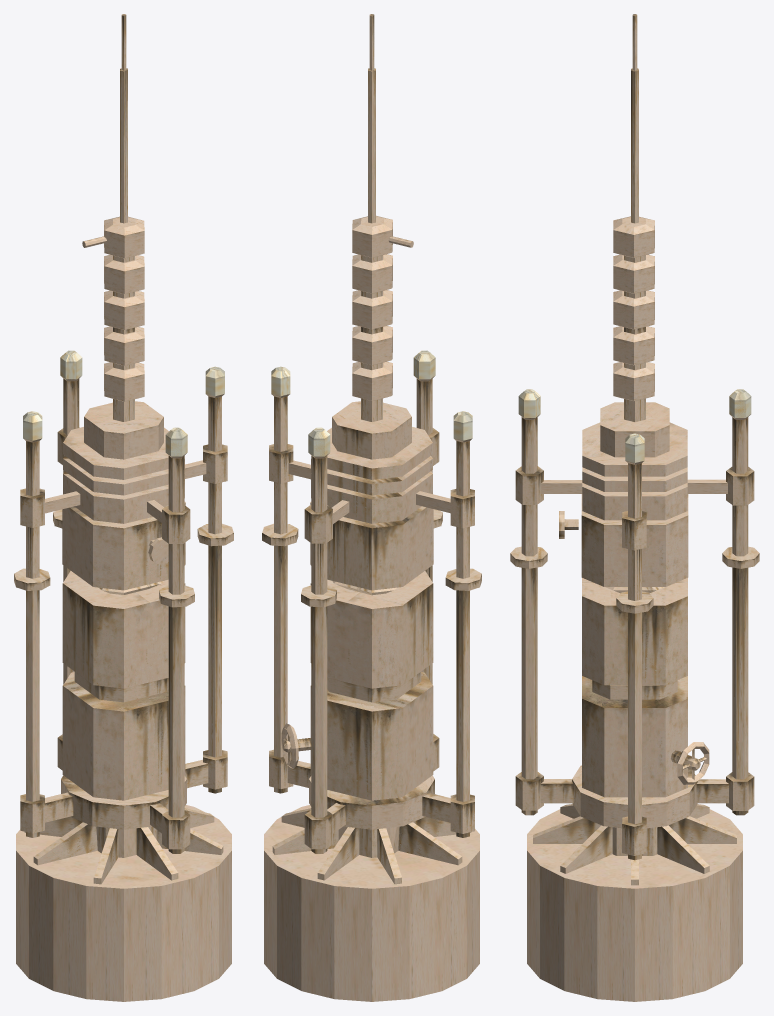
File: ins_all_min_moisture_s01_u0_l0.fbx
3 renders of one model, left to right at view 1: azimuth 30°, elevation 25°; view 2: azimuth 150°, elevation 25°; view 3: azimuth 270°, elevation 25°, orthographic.
Parts seen in each view (by area): view 1: mesh_node; view 2: mesh_node; view 3: mesh_node.
Boxes of the visible parts, box(x1,y1,x2,y2) form: mesh_node: box(14, 14, 233, 1001); mesh_node: box(262, 14, 481, 1001); mesh_node: box(510, 14, 759, 1001).
Size of the model in its own units: 1.86 by 7.76 by 1.86.
